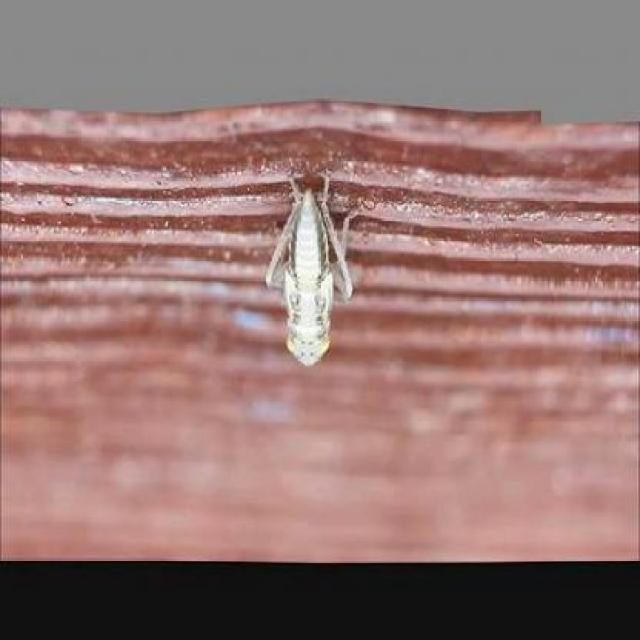green-leafhopper: (260, 169, 360, 374)
